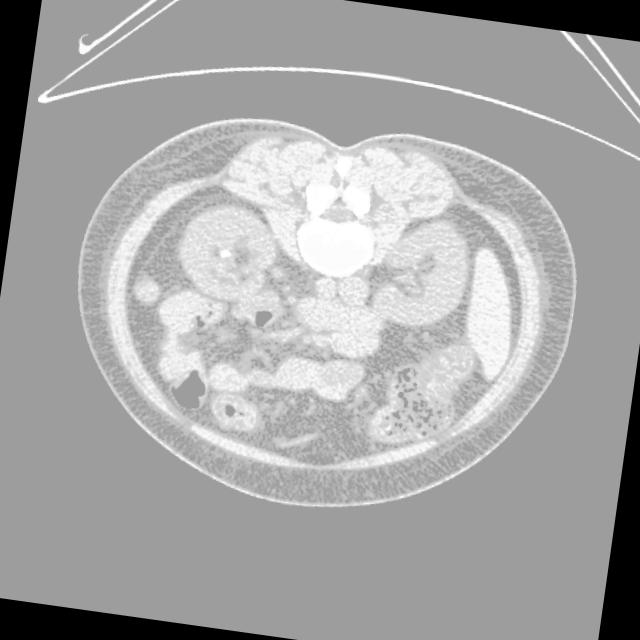STONE: (115, 235, 460, 541)
